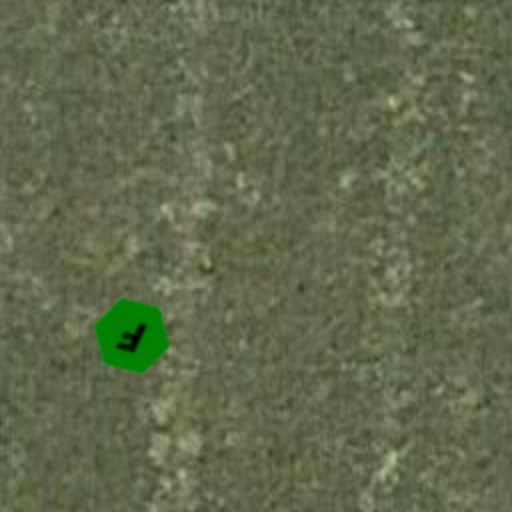hexagon: (82, 286, 182, 386)
